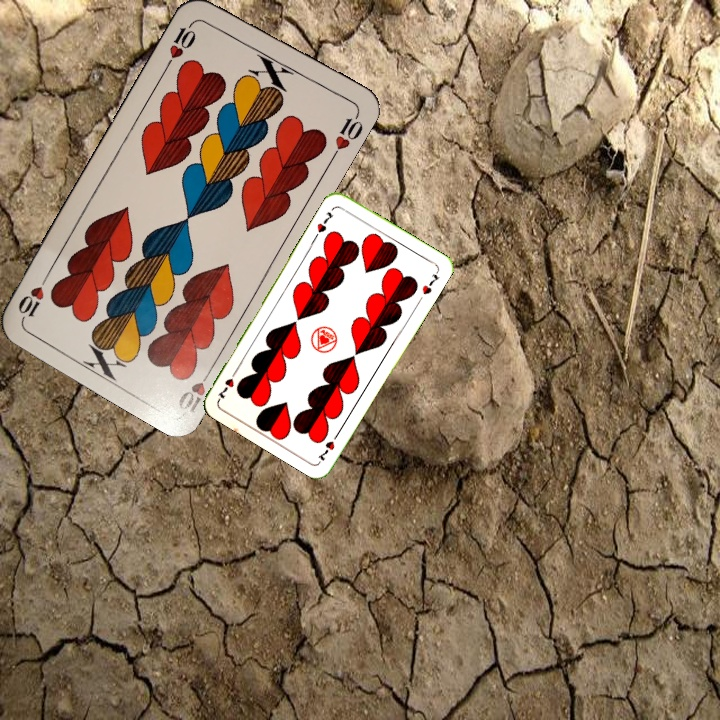H10: (174, 362, 218, 416), (162, 16, 199, 70)
H7: (314, 428, 342, 464), (313, 208, 337, 235)
